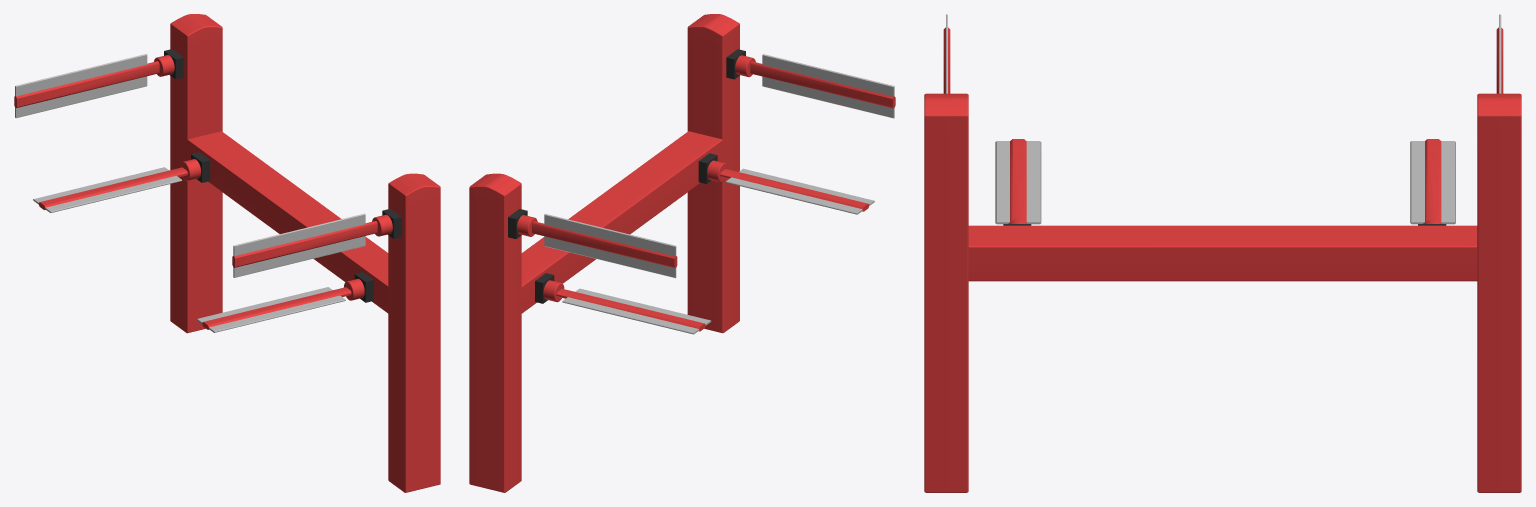
The picture shows the model from 3 angles, left to right: view 1: azimuth 30°, elevation 25°; view 2: azimuth 150°, elevation 25°; view 3: azimuth 270°, elevation 25°; orthographic projection. The views are drawn at different scales.
Visible parts, largest first — view 1: pCube31, polySurface571, polySurface569, polySurface568, polySurface572; view 2: pCube31, polySurface571, polySurface569, polySurface572, polySurface568; view 3: pCube31, polySurface572, polySurface568.
Boxes of the visible parts, <box> form: pCube31: <box>170,14,440,492</box>; polySurface571: <box>232,208,401,277</box>; polySurface569: <box>14,49,183,118</box>; polySurface568: <box>33,152,210,212</box>; polySurface572: <box>196,272,373,332</box>; pCube31: <box>469,14,739,492</box>; polySurface571: <box>726,49,895,118</box>; polySurface569: <box>508,209,677,278</box>; polySurface572: <box>698,153,874,214</box>; polySurface568: <box>535,273,711,334</box>; pCube31: <box>924,93,1521,492</box>; polySurface572: <box>995,139,1041,225</box>; polySurface568: <box>1410,139,1455,225</box>.
Bounding box in the file's own units: 4.13 × 6.02 × 8.49.
